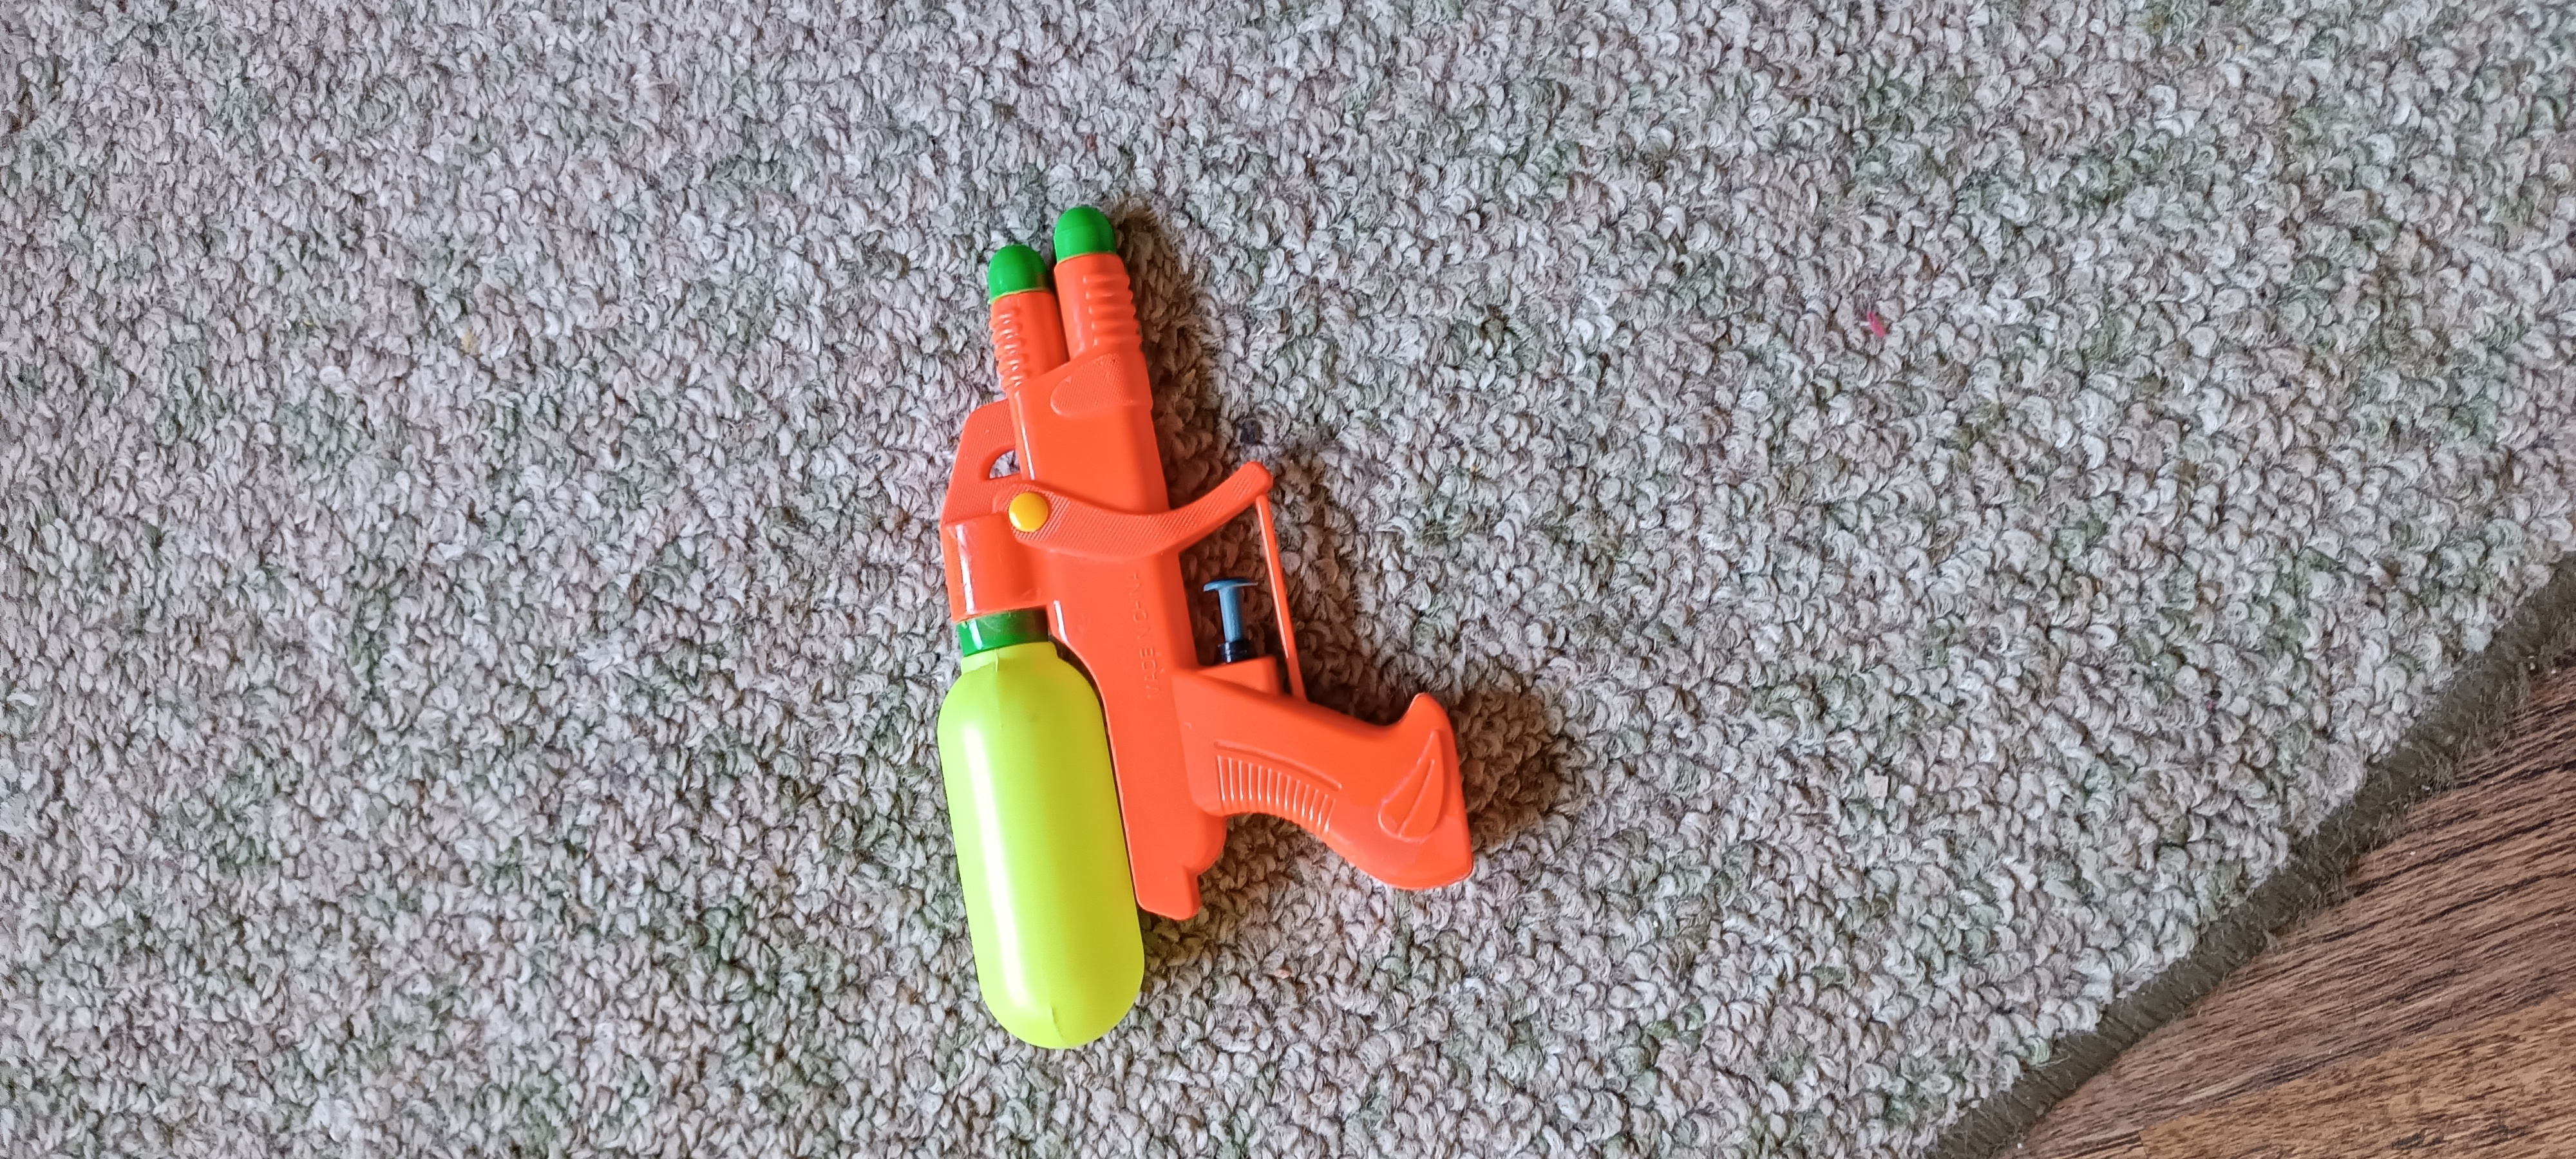Water Gun: (933, 204, 1475, 1049)
